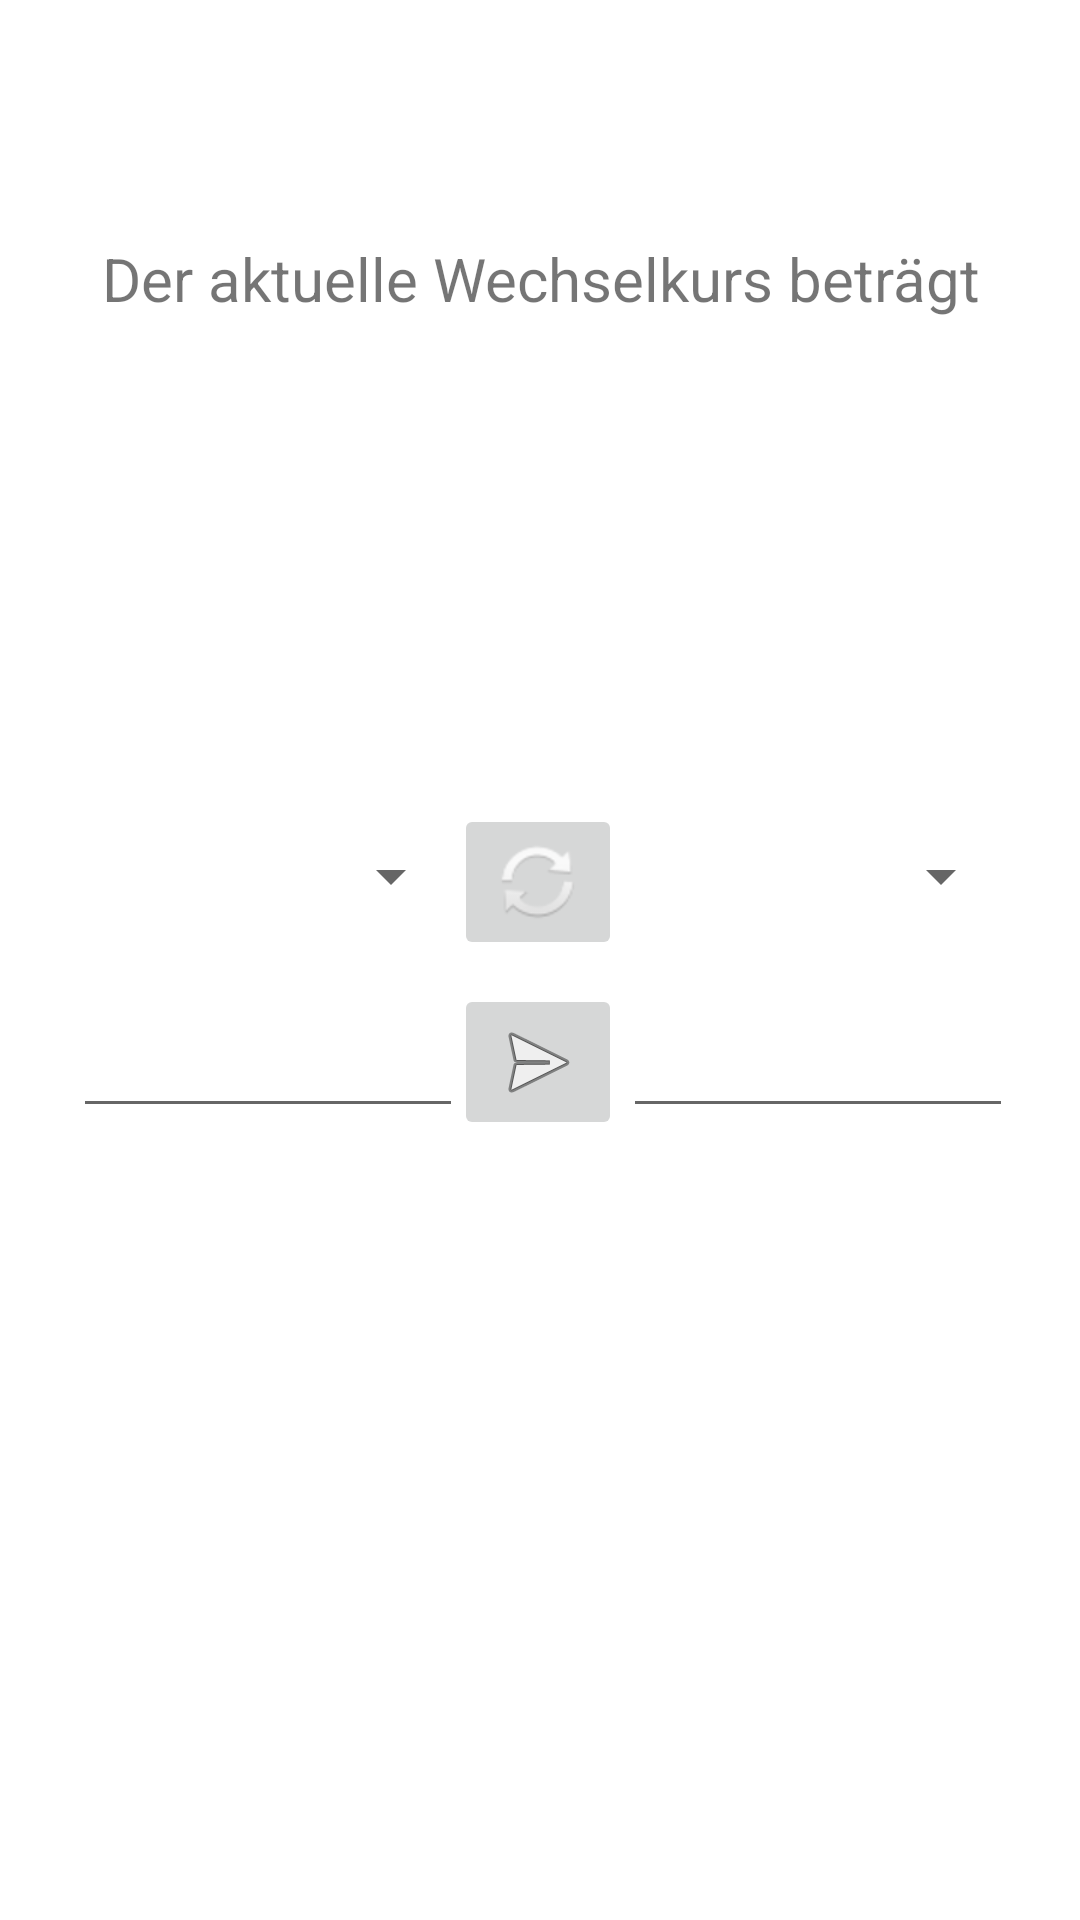

Icons on this 1080px x 1920px Android screen, each with its box as [x1, y1, x2, y2]:
Button to submit: [466, 1002, 610, 1122]
The Button to swap the items: [466, 822, 610, 942]
